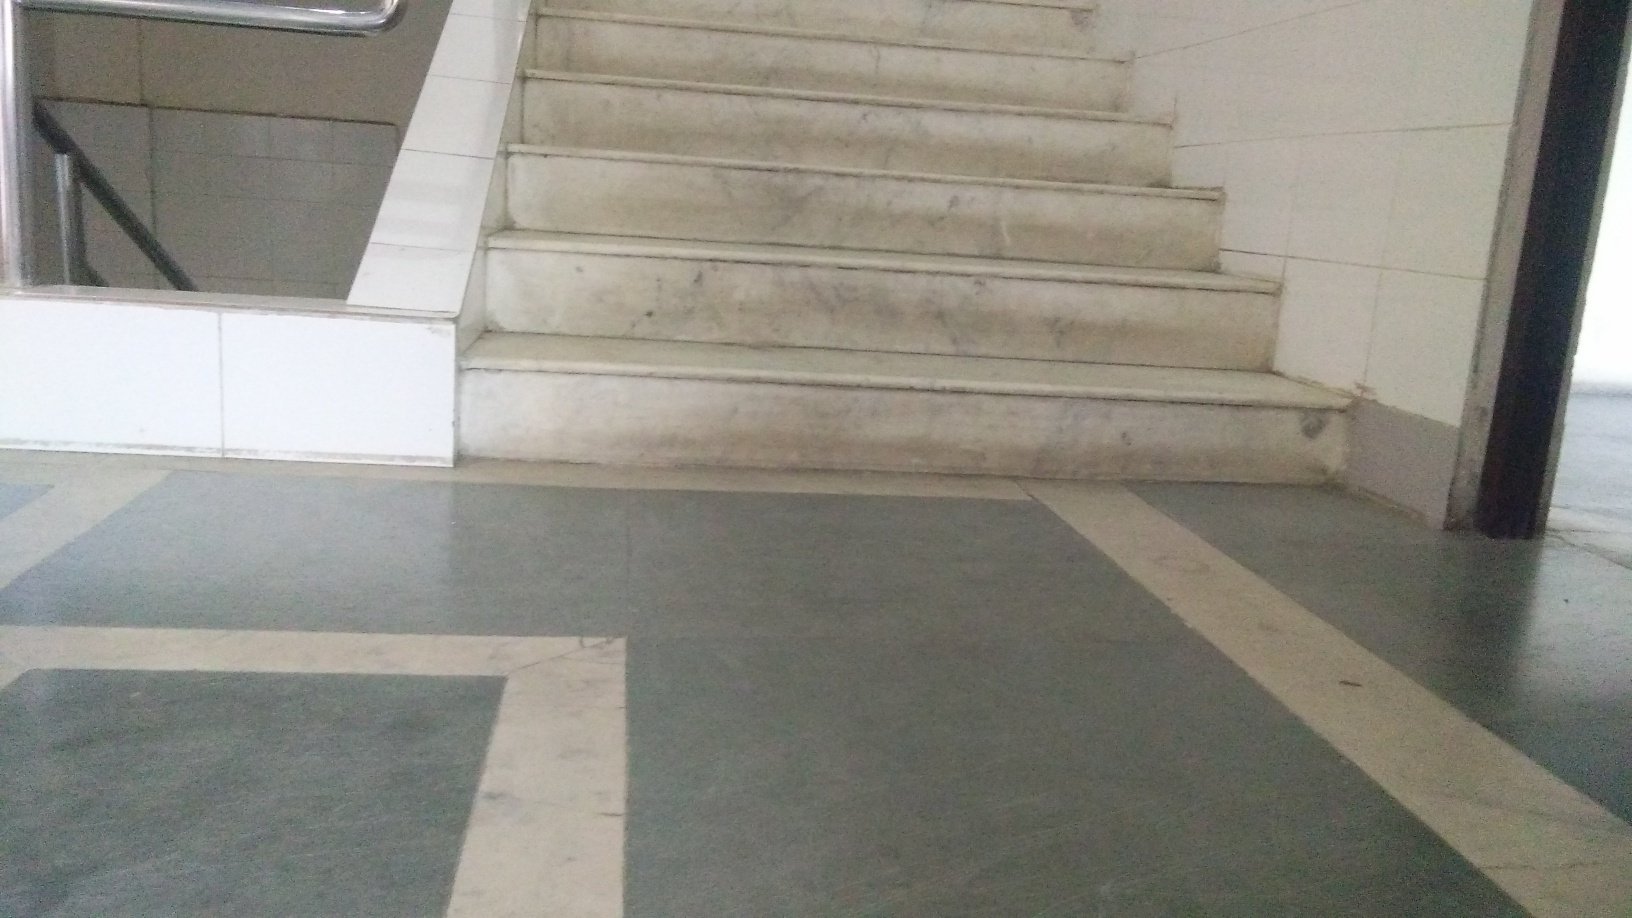stairs_up: (460, 1, 1352, 500)
